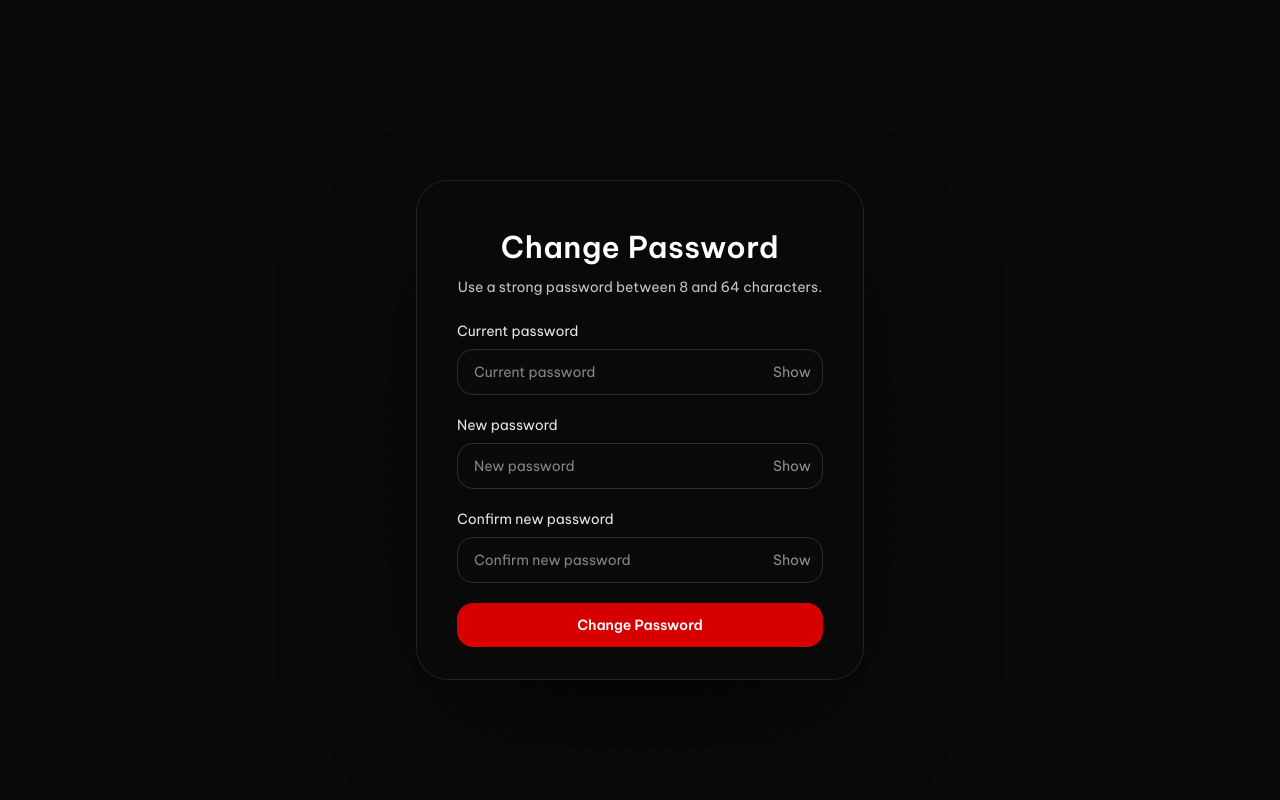
Scenario: ChangePasswordPage › toggles password visibility for all password fields
This screenshot has width=1280, height=800.
Click the button "Show" below "Current password".
click(792, 372)  # box [773, 362, 811, 382]
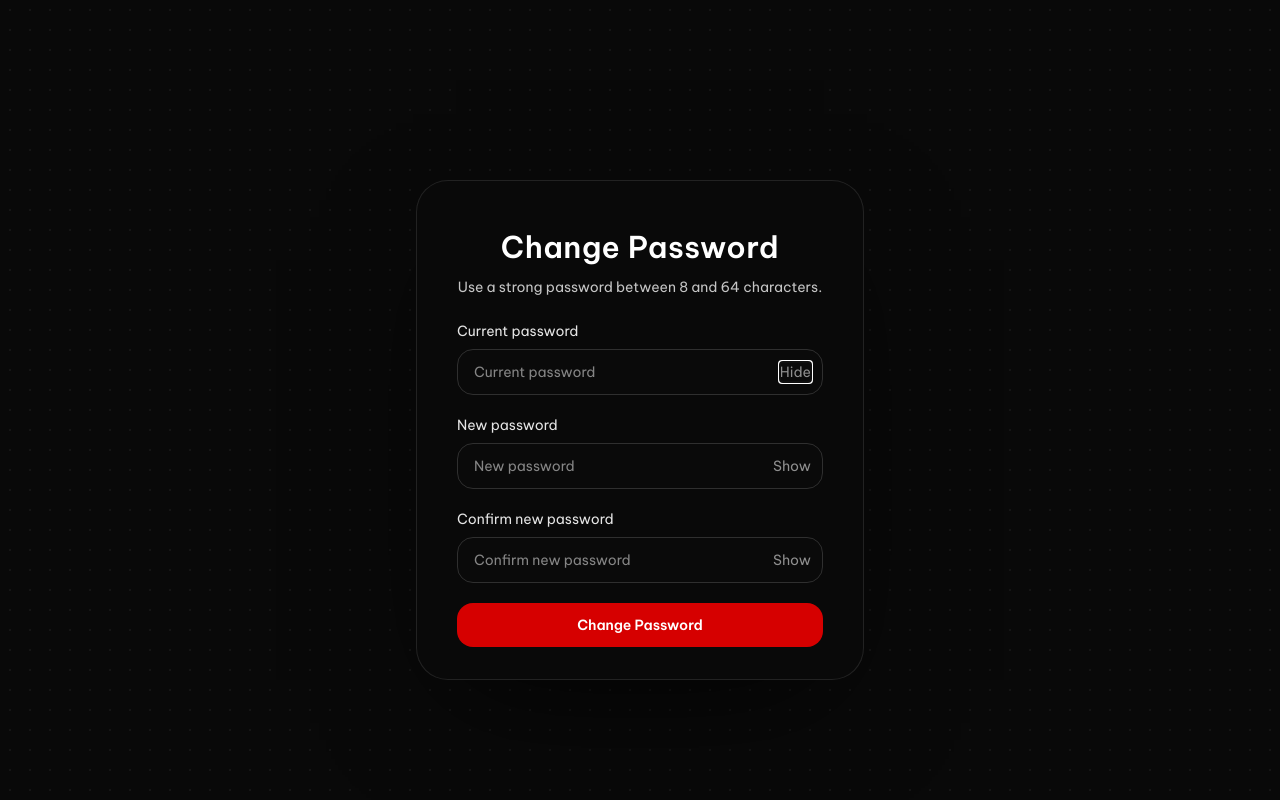
Expected: the button "Hide" is shown
Click the button "Hide".
click(795, 372)  # box [780, 362, 811, 382]
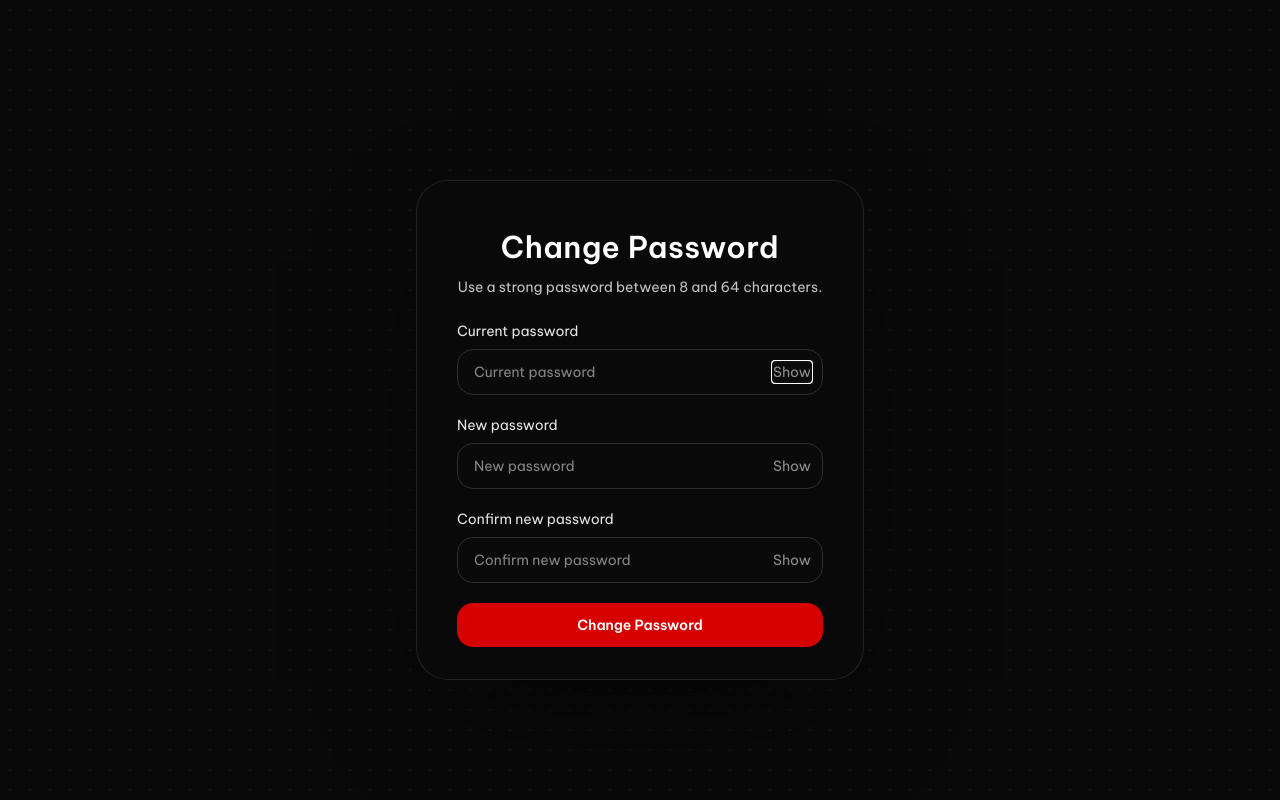
Expected: the button "Show" below "Current password" is shown, [773, 362, 811, 382]
Click the 2nd button "Show".
click(792, 466)  # box [773, 456, 811, 476]
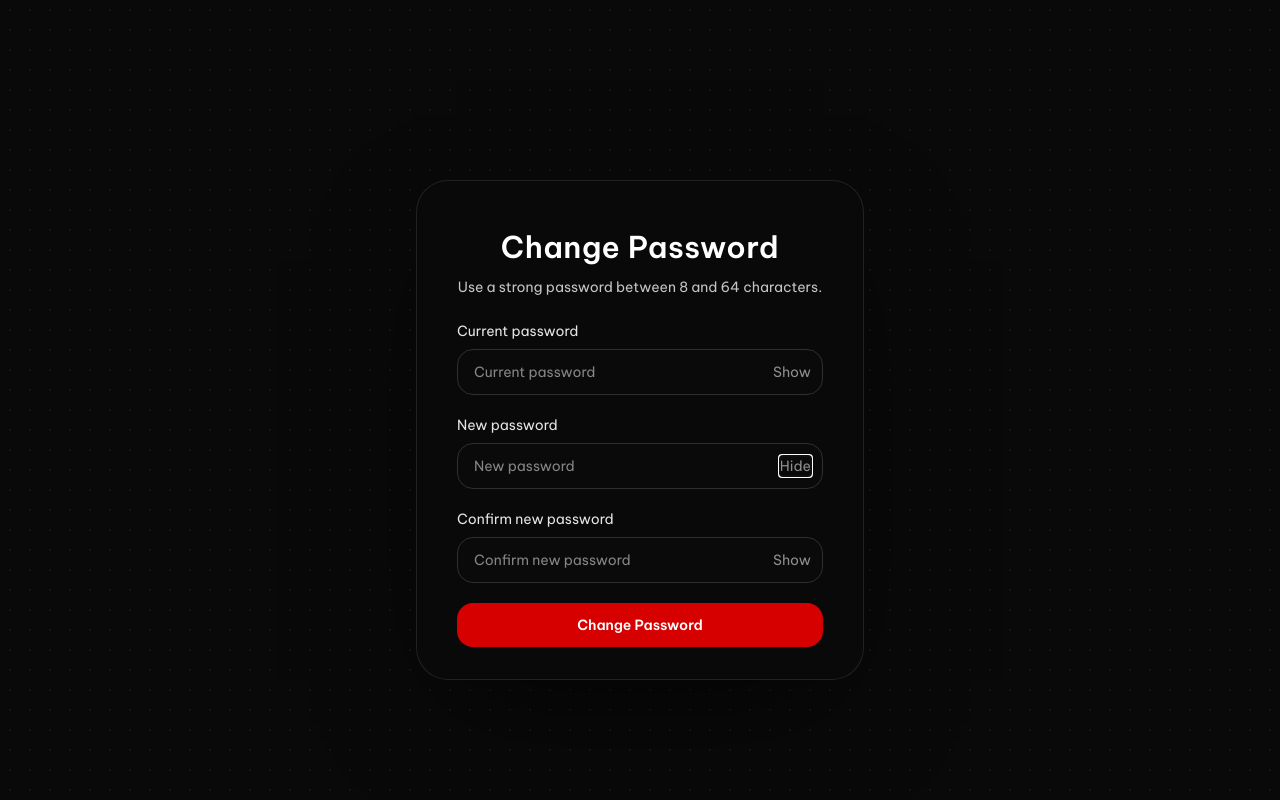
Expected: the button "Hide" is shown
Click the button "Hide".
click(795, 466)  # box [780, 456, 811, 476]
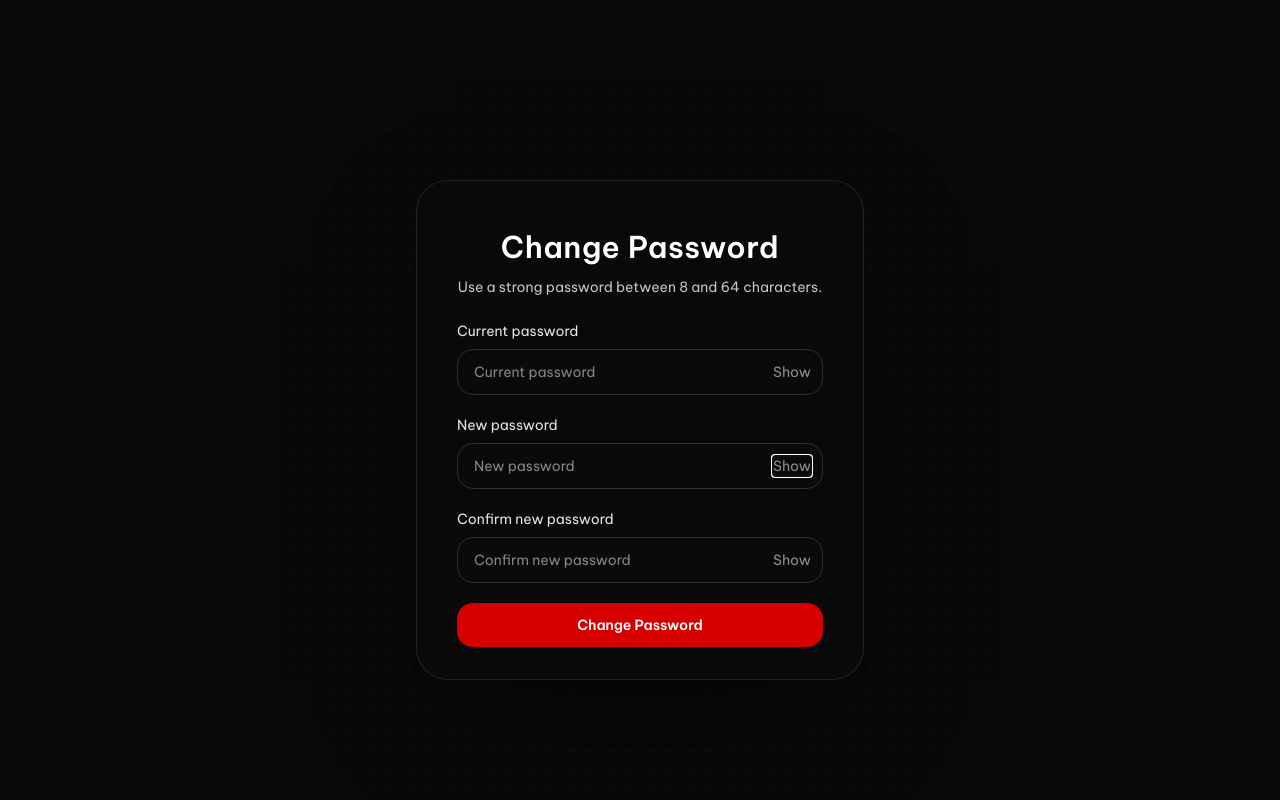
Expected: the 2nd button "Show" is shown, [773, 456, 811, 476]
Click the button "Show" below "Confirm new password".
click(792, 560)  # box [773, 550, 811, 570]
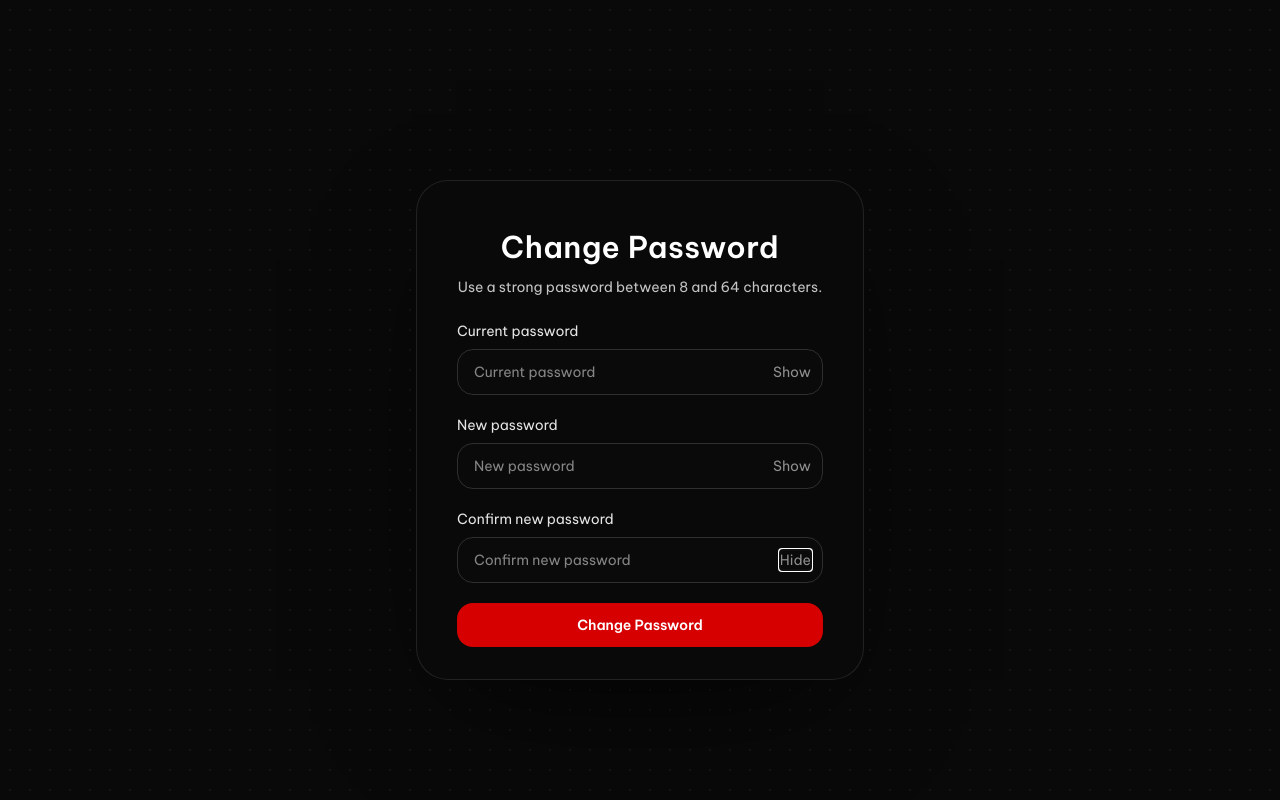
Expected: the button "Hide" is shown
Click the button "Hide".
click(795, 560)  # box [780, 550, 811, 570]
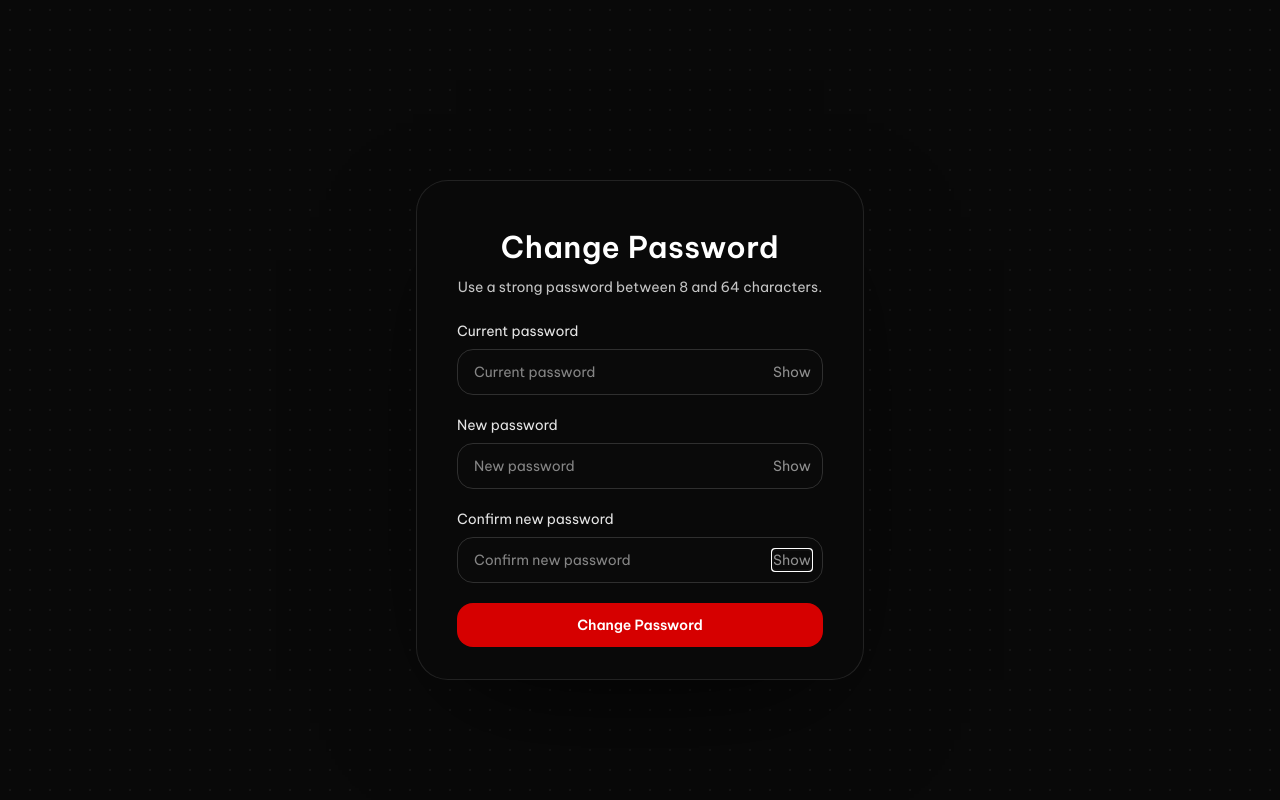
Expected: the button "Show" below "Confirm new password" is shown, [773, 550, 811, 570]
